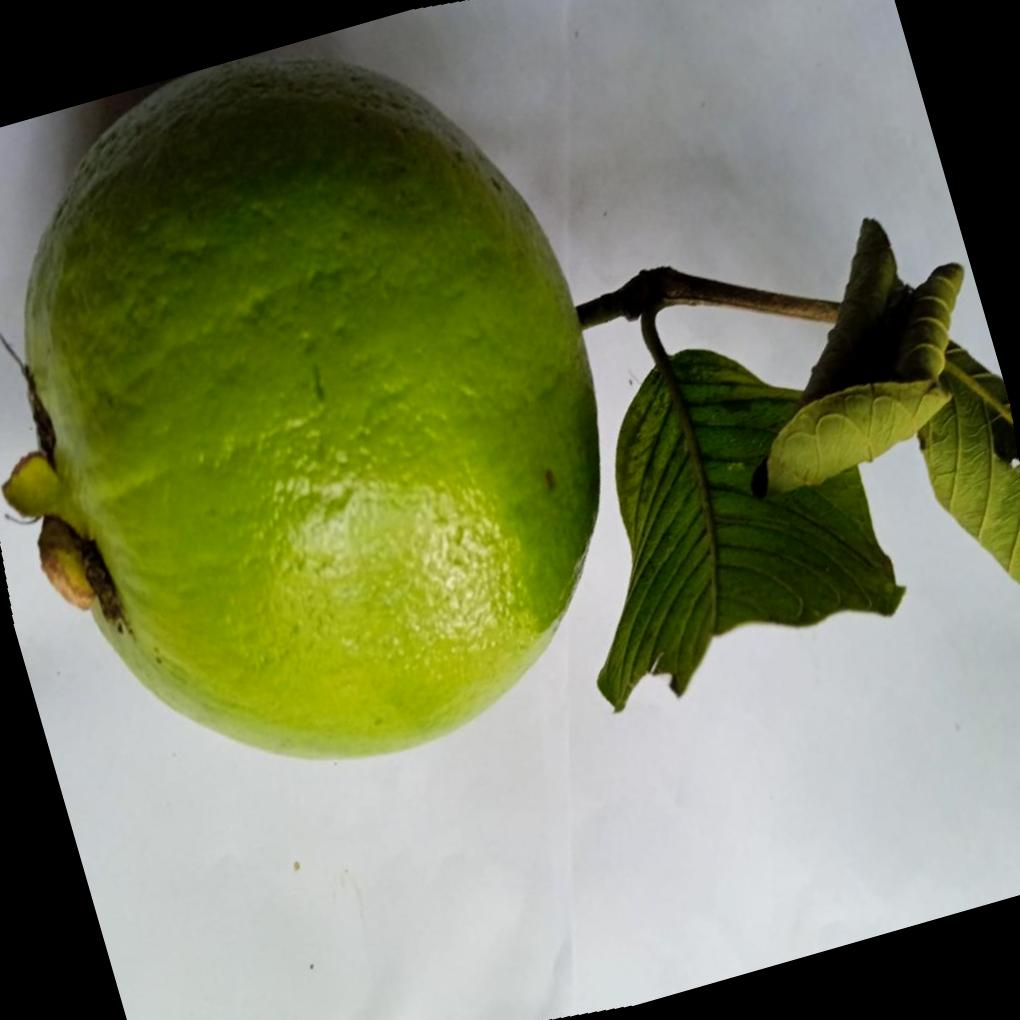FreshGuava: (2, 49, 598, 758)
